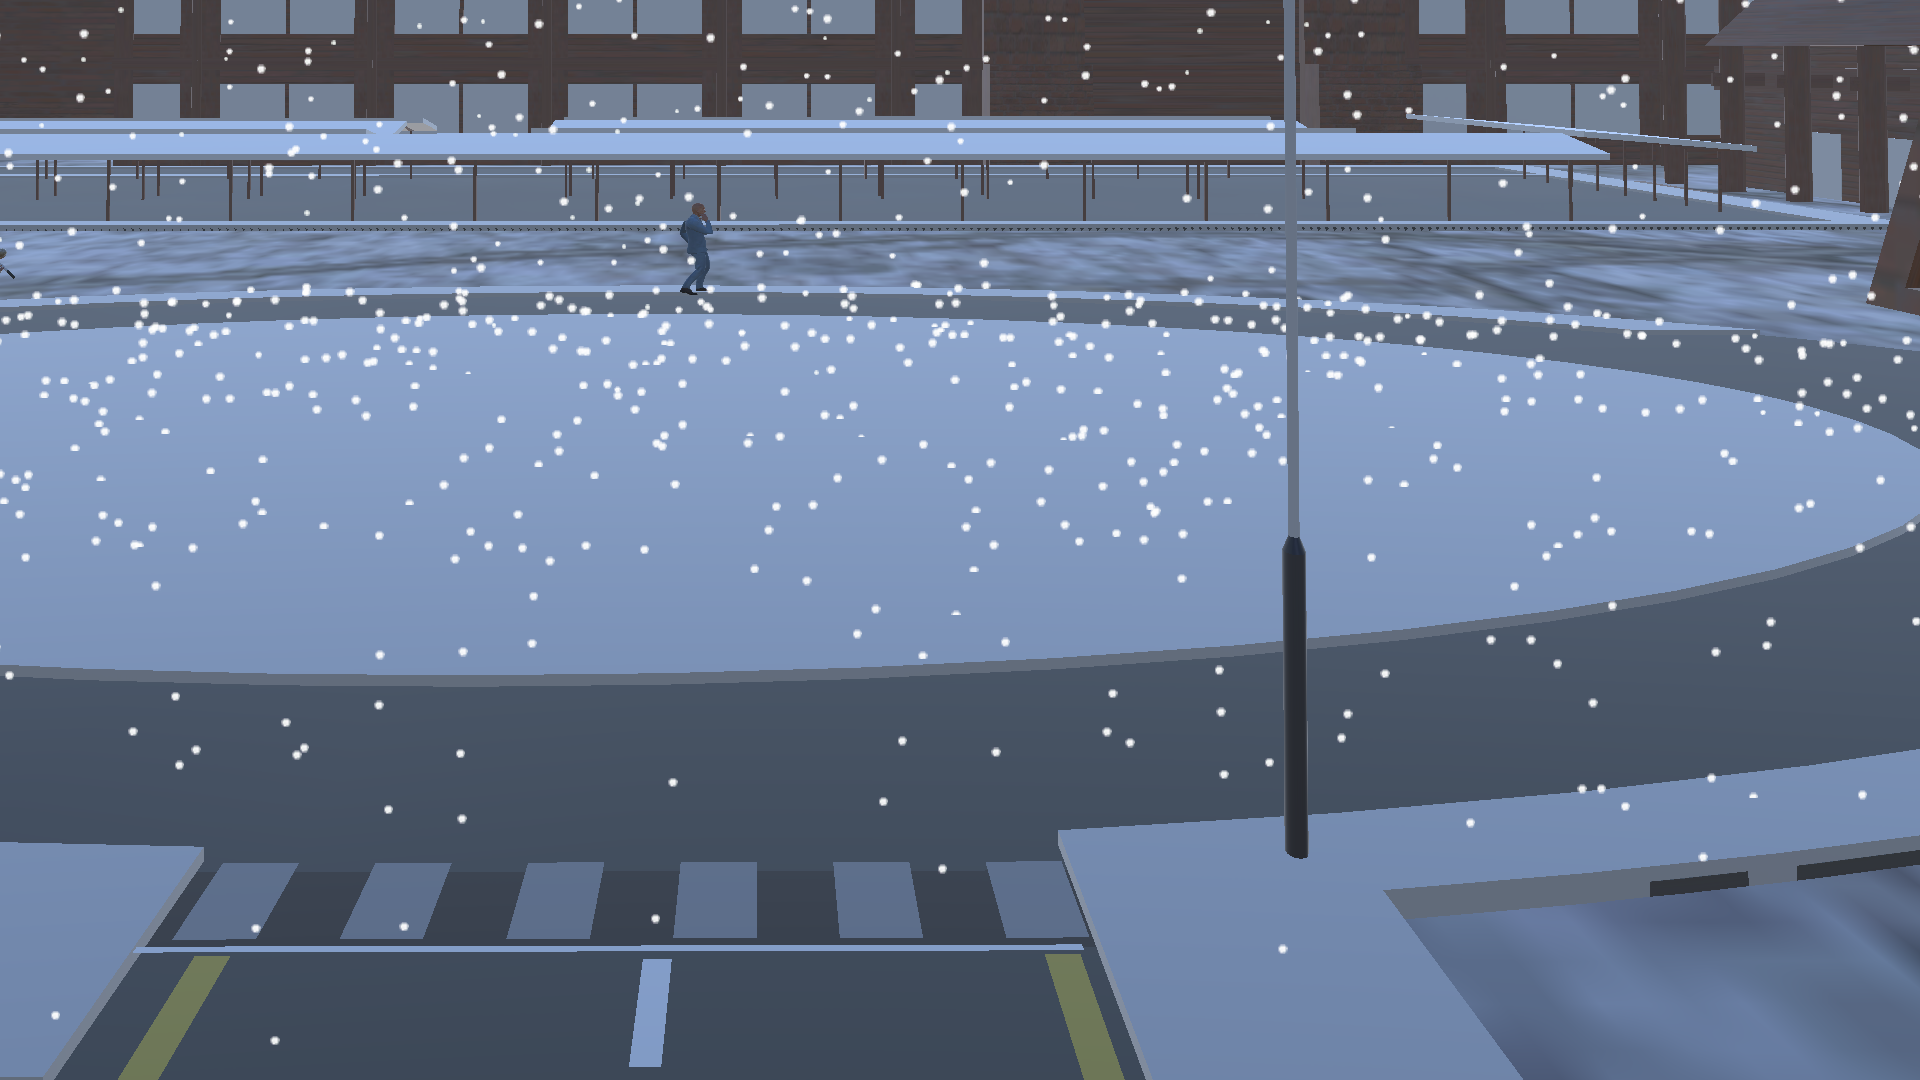pedestrian: (669, 201, 727, 297)
